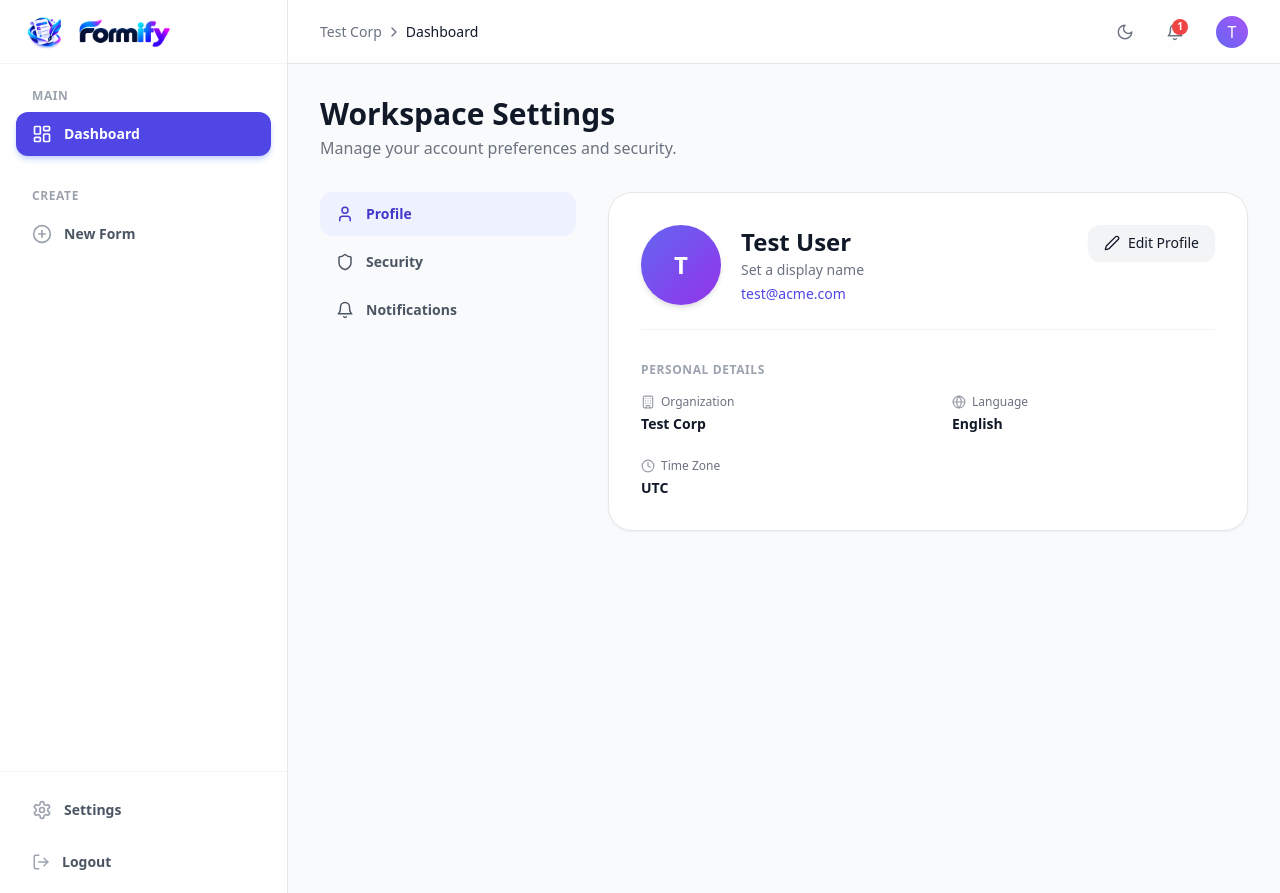
Scenario: Profile, Notifications, and Settings Features › 3. Settings update persists
The width and height of the screenshot is (1280, 893).
Expected: the heading "Test User" is shown, [741,226,864,258]
Click 'Edit Profile' to enter edit mode
Click the button "Edit Profile".
click(1151, 243)  # box [1088,225,1215,261]
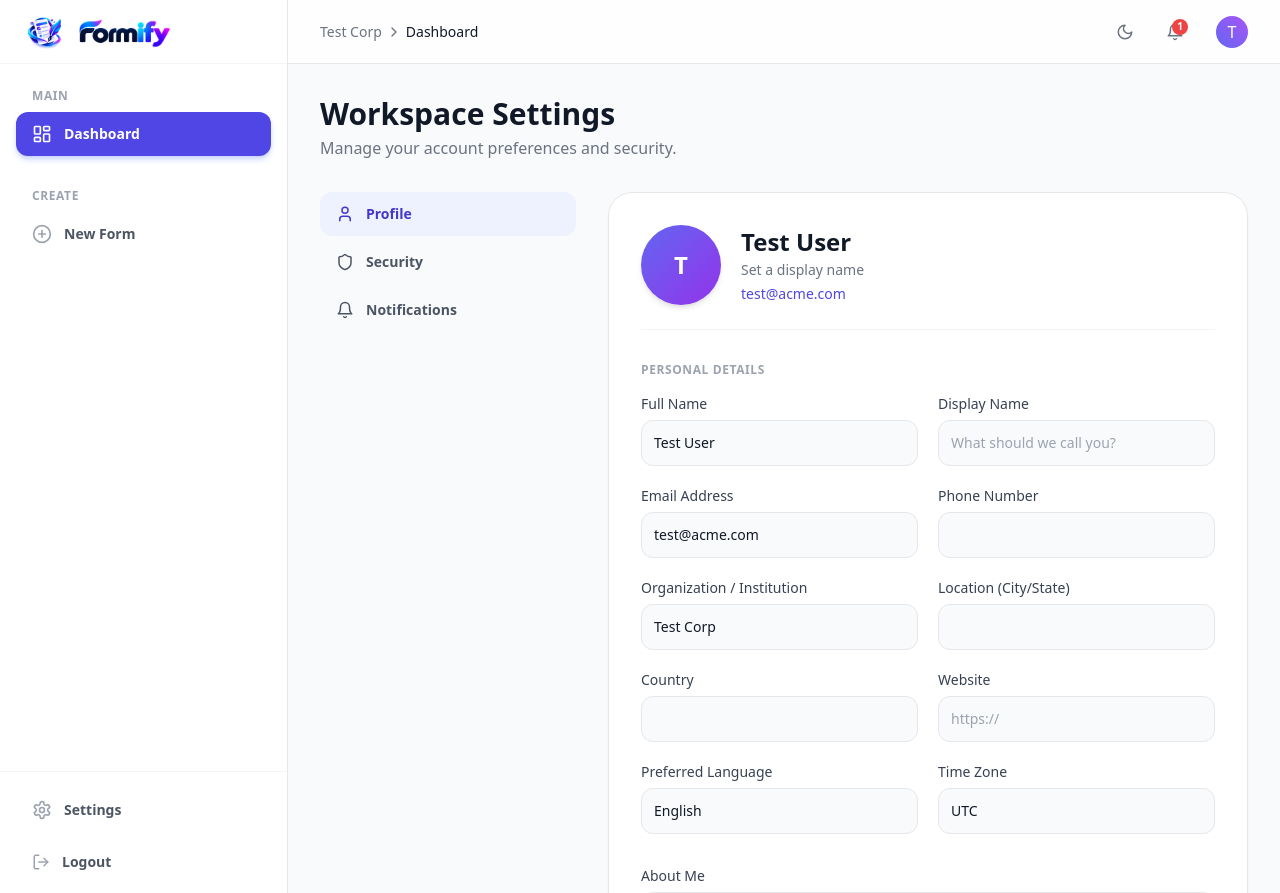
Now the field showing "Test User" below "Full Name" is shown, box [641,420,918,466]
Now the field showing "Test Corp" below "Organization / Institution" is shown
Replace the text in the field showing "Test Corp" below "Organization / Institution" with "Updated Corp" at (780, 627), box [641,604,918,650]
(page scrolled)
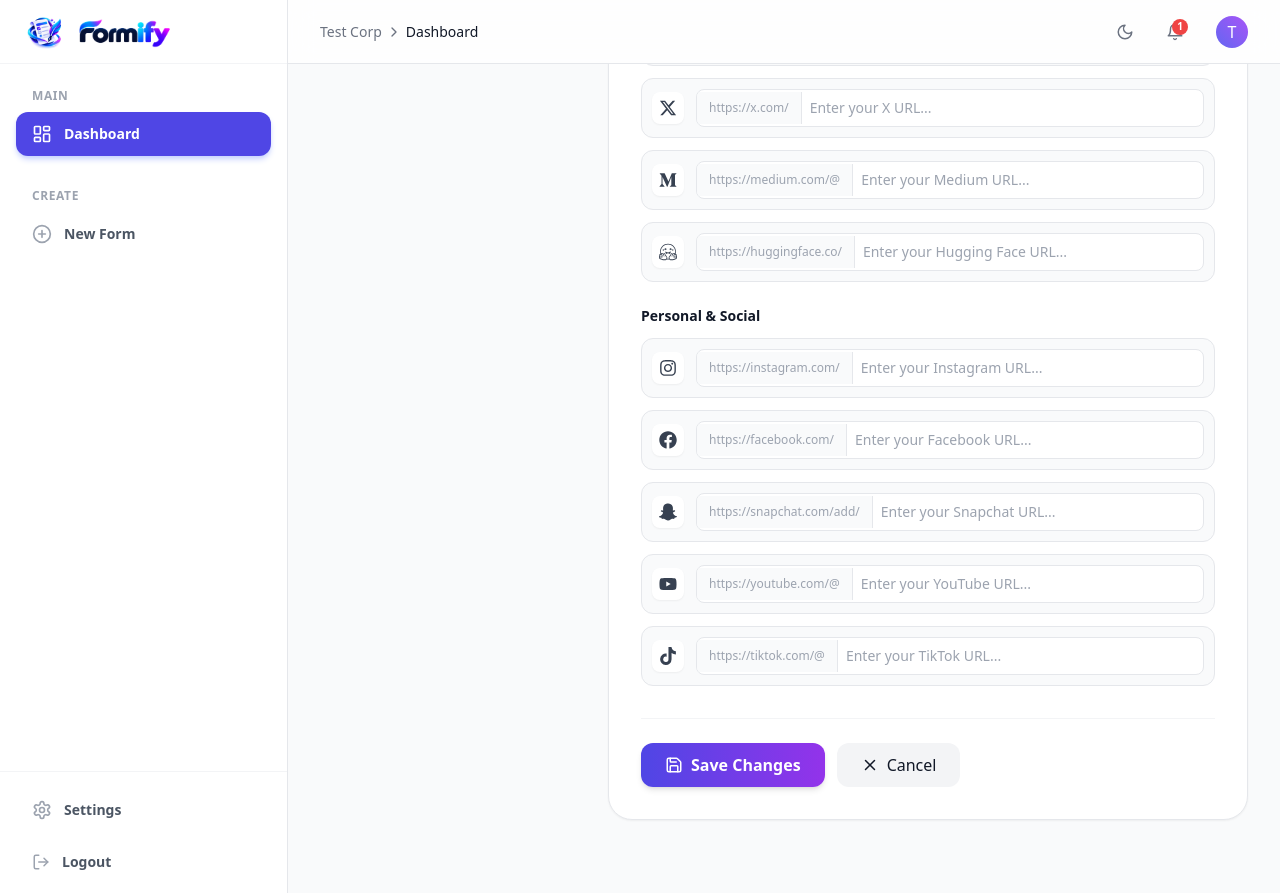
Click the button "Save Changes".
click(733, 765)  # box [641,743,825,787]
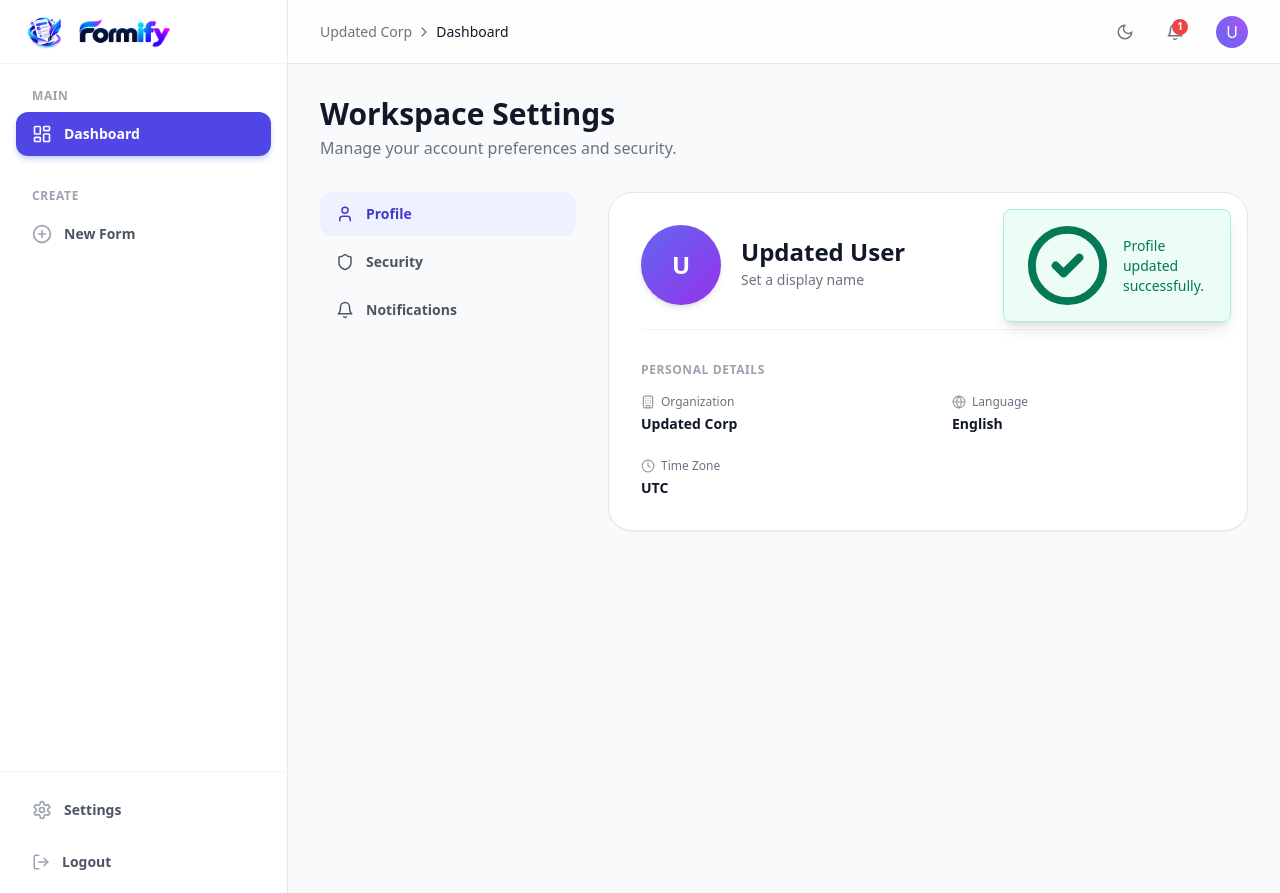
Now the heading "Test User" is shown, box [741,236,905,268]
